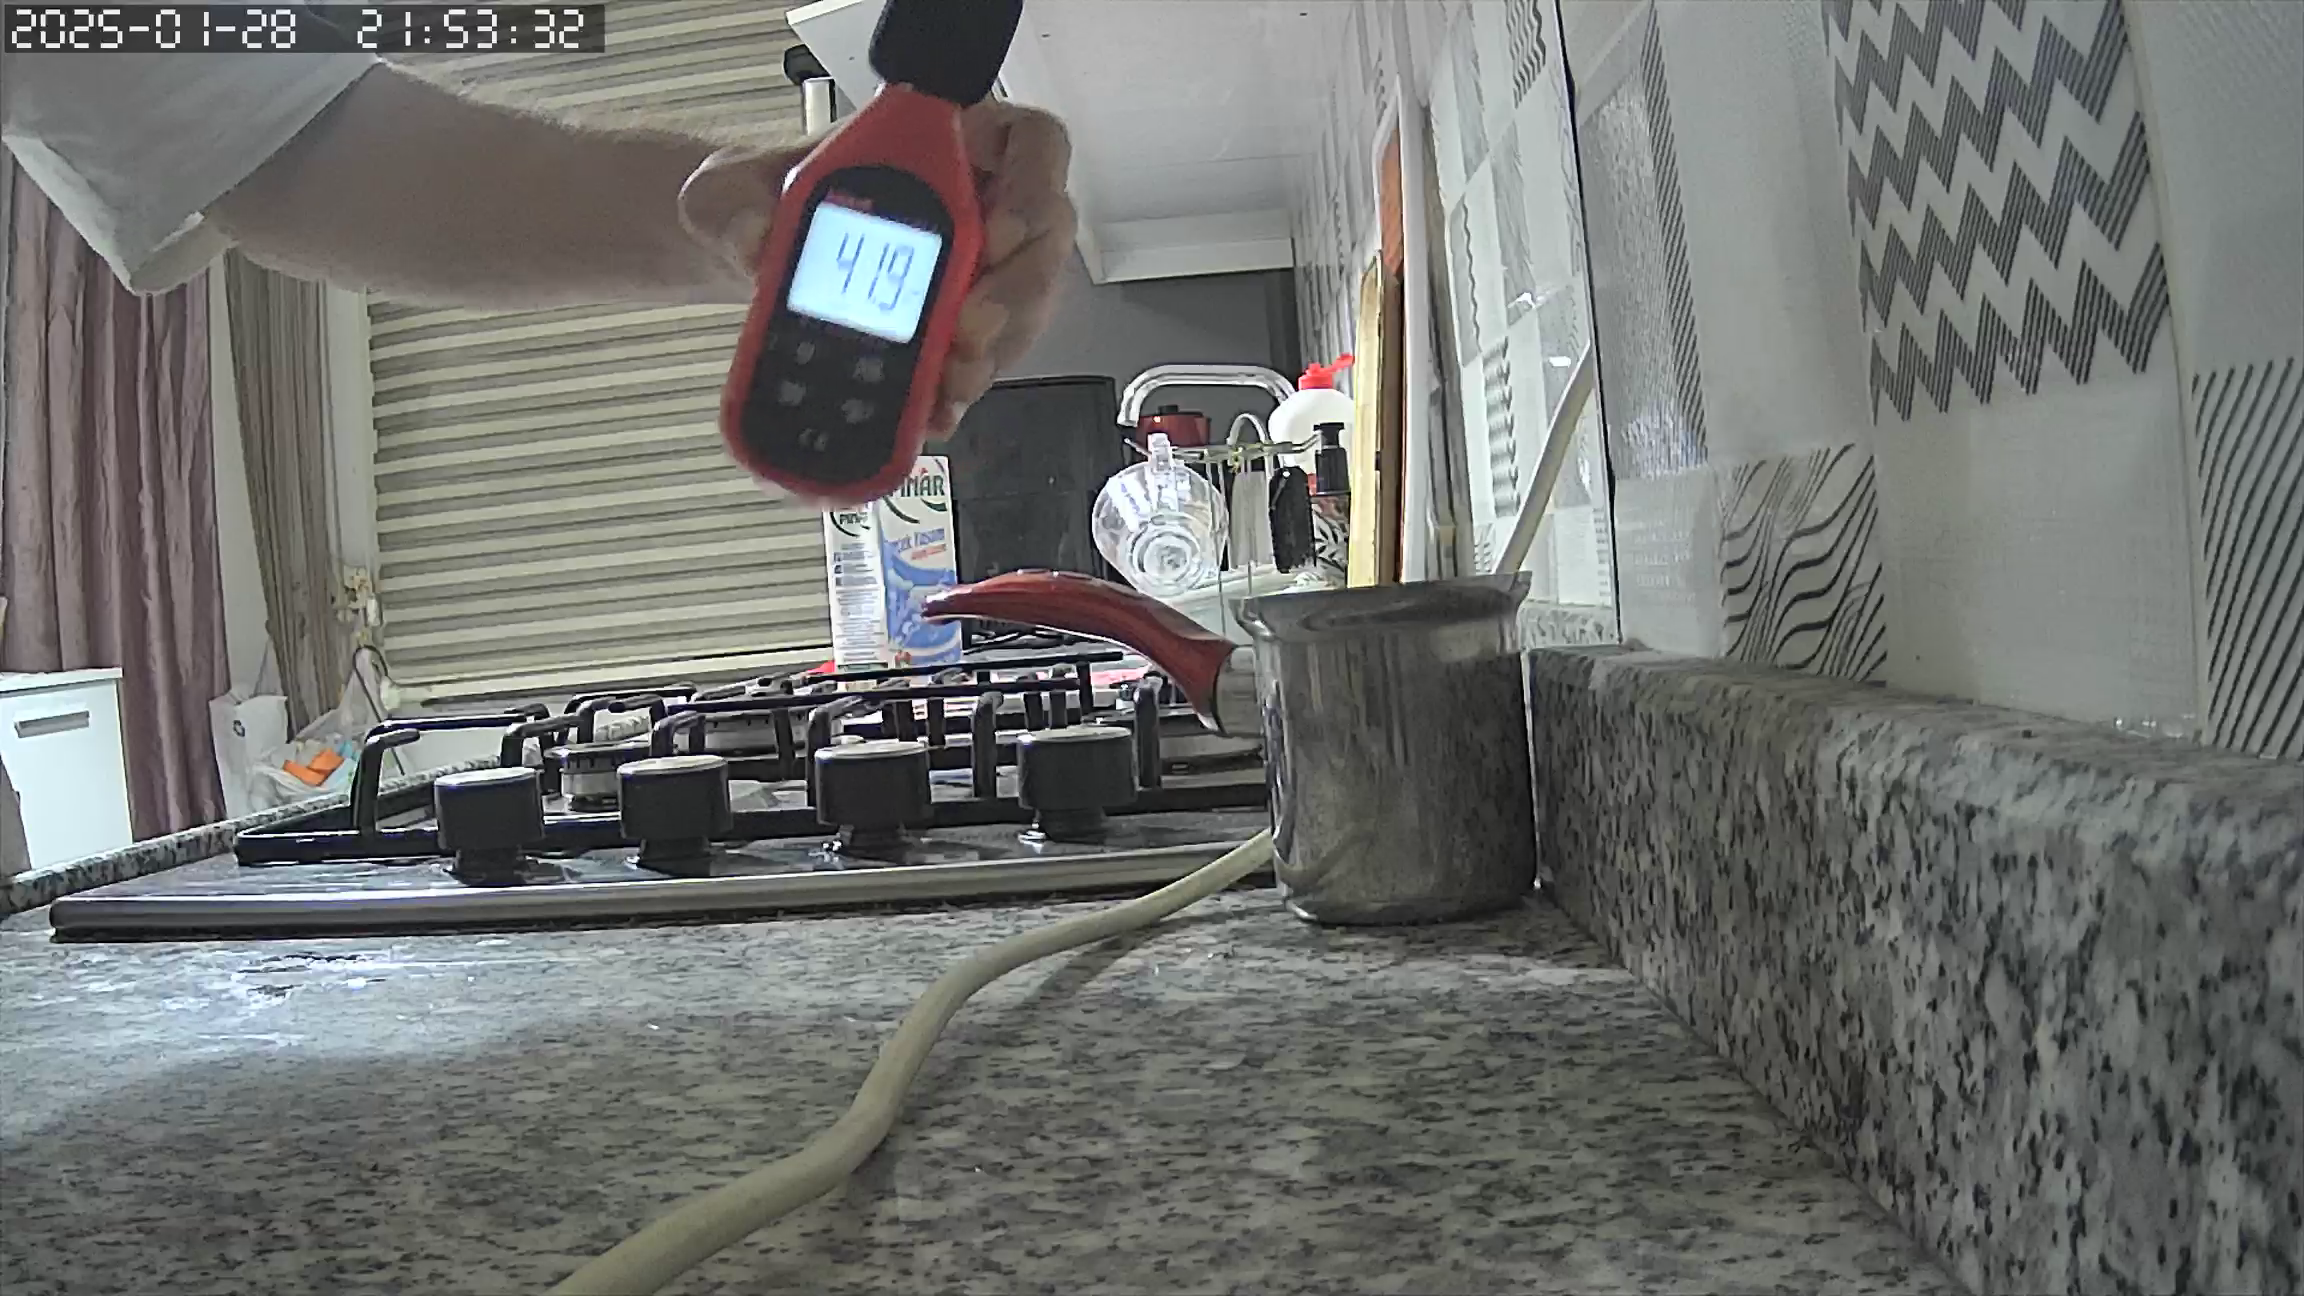screen: (790, 203, 937, 345)
